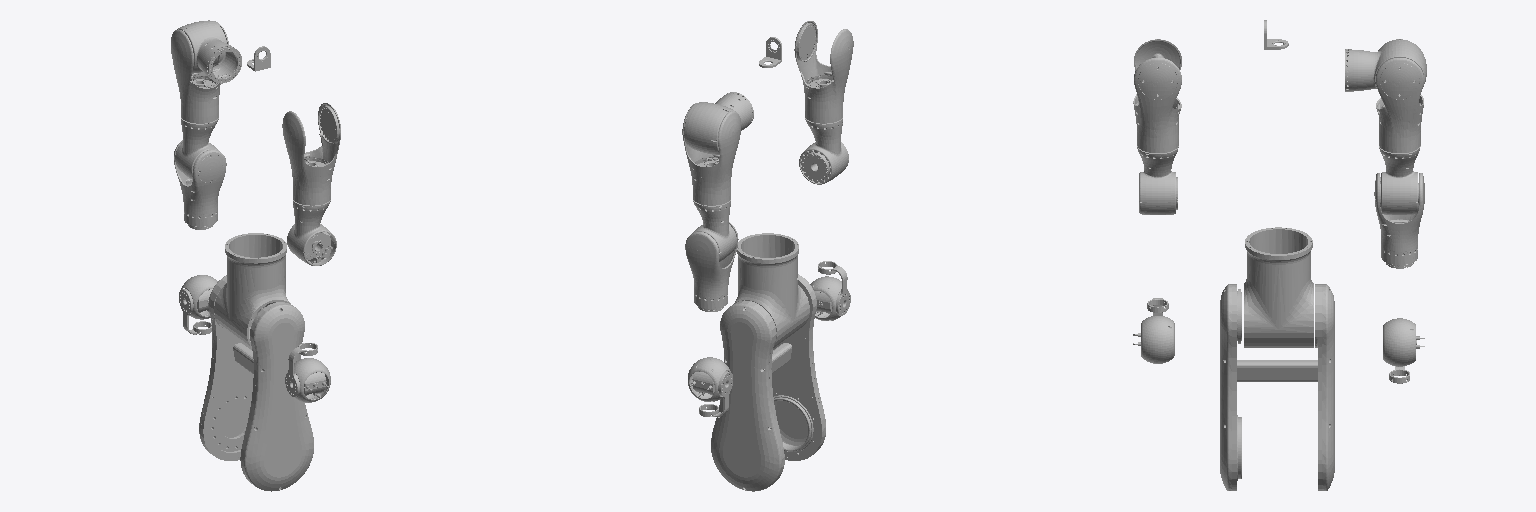
--- Facts derived from the render (not from the file) ---
The picture shows the robot from 3 angles, left to right: view 1: azimuth 30°, elevation 25°; view 2: azimuth 150°, elevation 25°; view 3: azimuth 270°, elevation 25°; orthographic projection.
Robot: CrpRobot — 21 links, 20 joints (20 revolute); root link AMR_link; default pose: every joint at zero.
Visible links, largest first — view 1: thigh_Link, waist_Link, right_uperarm_Link, left_uperarm_Link, left_forearm_Link, leftshd_Link, right_elbow_Link, left_elbow_Link, right_wrist_Link, left_wrist_Link, right_hand_Link, left_hand_Link; view 2: thigh_Link, waist_Link, right_uperarm_Link, left_uperarm_Link, left_forearm_Link, leftshd_Link, right_elbow_Link, left_elbow_Link, left_wrist_Link, right_wrist_Link, right_hand_Link, left_hand_Link; view 3: thigh_Link, waist_Link, right_uperarm_Link, left_uperarm_Link, left_forearm_Link, right_elbow_Link, left_elbow_Link, leftshd_Link, right_wrist_Link, left_wrist_Link.
Link boxes in pixels (x1,y1,x2,y2): thigh_Link: (199,275,313,491); waist_Link: (214,233,290,347); right_uperarm_Link: (282,103,340,205); left_uperarm_Link: (171,21,228,123); left_forearm_Link: (174,140,226,229); leftshd_Link: (177,20,241,83); right_elbow_Link: (287,200,336,265); left_elbow_Link: (175,118,218,179); right_wrist_Link: (288,358,330,402); left_wrist_Link: (181,275,217,319); right_hand_Link: (285,343,317,396); left_hand_Link: (179,289,211,334); thigh_Link: (711,274,825,491); waist_Link: (734,233,809,347); right_uperarm_Link: (794,21,853,123); left_uperarm_Link: (682,103,740,205); left_forearm_Link: (685,222,738,311); leftshd_Link: (684,92,753,154); right_elbow_Link: (799,118,848,184); left_elbow_Link: (693,200,736,261); left_wrist_Link: (688,357,730,401); right_wrist_Link: (810,276,848,320); right_hand_Link: (818,261,850,315); left_hand_Link: (699,371,732,416); thigh_Link: (1220,284,1334,490); waist_Link: (1244,227,1313,347); right_uperarm_Link: (1133,39,1181,152); left_uperarm_Link: (1376,39,1423,152); left_forearm_Link: (1374,173,1424,268); right_elbow_Link: (1137,146,1178,214); left_elbow_Link: (1379,146,1420,214); leftshd_Link: (1345,39,1426,91); right_wrist_Link: (1133,316,1174,363); left_wrist_Link: (1383,318,1424,366).
Bounding box of the posed robot: 0.1799 × 0.6073 × 1.06 m (x, y, z).
13 mesh visuals loaded from 21 distinct referenced files (13 binary STL); not drawn: 8 (reference not matched to a file when rendering).

URDF robot description (CrpRobot):
<?xml version="1.0" encoding="utf-8"?>
<!-- This URDF was automatically created by SolidWorks to URDF Exporter! Originally created by Stephen Brawner ([email redacted]) 
     Commit Version: 1.6.0-4-g7f85cfe  Build Version: 1.6.7995.38578
     For more information, please see http://wiki.ros.org/sw_urdf_exporter -->
<robot
  name="CrpRobot">
  <link
    name="AMR_link">
    <inertial>
      <origin
        xyz="1.7067250104595E-06 -0.000630534395126906 0.23498436460573"
        rpy="0 0 0" />
      <mass
        value="15.6838298790596" />
      <inertia
        ixx="0.29273067004881"
        ixy="-0.000892145751909648"
        ixz="1.19710141560885E-08"
        iyy="0.621397679549303"
        iyz="-4.30982823485956E-06"
        izz="0.899723888567382" />
    </inertial>
    <visual>
      <origin
        xyz="0 0 0"
        rpy="0 0 0" />
      <geometry>
        <mesh
          filename="package://CrpRobotDescription/meshes/AMR_link.STL" />
      </geometry>
      <material
        name="">
        <color
          rgba="0.752941176470588 0.752941176470588 0.752941176470588 1" />
      </material>
    </visual>
    <collision>
      <origin
        xyz="0 0 0"
        rpy="0 0 0" />
      <geometry>
        <mesh
          filename="package://CrpRobotDescription/meshes/AMR_link.STL" />
      </geometry>
    </collision>
  </link>
  <link
    name="calf_Link">
    <inertial>
      <origin
        xyz="-1.9907E-07 0.013119 0.13964"
        rpy="0 0 0" />
      <mass
        value="19.211" />
      <inertia
        ixx="0.11342"
        ixy="-3.3299E-08"
        ixz="-2.8761E-08"
        iyy="0.11044"
        iyz="0.0004617"
        izz="0.062754" />
    </inertial>
    <visual>
      <origin
        xyz="0 0 0"
        rpy="0 0 0" />
      <geometry>
        <mesh
          filename="package://CrpRobotDescription/meshes/calf_Link.STL" />
      </geometry>
      <material
        name="">
        <color
          rgba="0.75294 0.75294 0.75294 1" />
      </material>
    </visual>
    <collision>
      <origin
        xyz="0 0 0"
        rpy="0 0 0" />
      <geometry>
        <mesh
          filename="package://CrpRobotDescription/meshes/calf_Link.STL" />
      </geometry>
    </collision>
  </link>
  <joint
    name="JT_ankle_pitch"
    type="revolute">
    <origin
      xyz="0 0 0.344"
      rpy="0 0 0" />
    <parent
      link="AMR_link" />
    <child
      link="calf_Link" />
    <axis
      xyz="0 -1 0" />
    <limit
      lower="-1.57"
      upper="1.57"
      effort="0"
      velocity="0" />
  </joint>
  <link
    name="thigh_Link">
    <inertial>
      <origin
        xyz="-1.2883E-07 -0.0050028 0.12937"
        rpy="0 0 0" />
      <mass
        value="3.6191" />
      <inertia
        ixx="0.041564"
        ixy="-4.7332E-10"
        ixz="-1.3554E-07"
        iyy="0.047009"
        iyz="0.00041827"
        izz="0.0074734" />
    </inertial>
    <visual>
      <origin
        xyz="0 0 0"
        rpy="0 0 0" />
      <geometry>
        <mesh
          filename="package://CrpRobotDescription/meshes/thigh_Link.STL" />
      </geometry>
      <material
        name="">
        <color
          rgba="0.75294 0.75294 0.75294 1" />
      </material>
    </visual>
    <collision>
      <origin
        xyz="0 0 0"
        rpy="0 0 0" />
      <geometry>
        <mesh
          filename="package://CrpRobotDescription/meshes/thigh_Link.STL" />
      </geometry>
    </collision>
  </link>
  <joint
    name="JT_knee_pitch"
    type="revolute">
    <origin
      xyz="0 0 0.28"
      rpy="0 0 0" />
    <parent
      link="calf_Link" />
    <child
      link="thigh_Link" />
    <axis
      xyz="0 -1 0" />
    <!-- <limit
      lower="-2.093"
      upper="2.093"
      effort="0"
      velocity="0" /> -->
    <limit
      lower="-1.571"
      upper="1.571"
      effort="0"
      velocity="0" />
  </joint>
  <link
    name="waist_Link">
    <inertial>
      <origin
        xyz="3.08982177258082E-08 0.00746163747499071 0.0708223424260894"
        rpy="0 0 0" />
      <mass
        value="11.0697374901141" />
      <inertia
        ixx="0.0269084125958022"
        ixy="1.3917210472165E-07"
        ixz="1.35564028293498E-08"
        iyy="0.0248391541928932"
        iyz="0.000208916767385605"
        izz="0.0207393365737641" />
    </inertial>
    <visual>
      <origin
        xyz="0 0 0"
        rpy="0 0 0" />
      <geometry>
        <mesh
          filename="package://CrpRobotDescription/meshes/waist_Link.STL" />
      </geometry>
      <material
        name="">
        <color
          rgba="0.752941176470588 0.752941176470588 0.752941176470588 1" />
      </material>
    </visual>
    <collision>
      <origin
        xyz="0 0 0"
        rpy="0 0 0" />
      <geometry>
        <mesh
          filename="package://CrpRobotDescription/meshes/waist_Link.STL" />
      </geometry>
    </collision>
  </link>
  <joint
    name="JT_waist_pitch"
    type="revolute">
    <origin
      xyz="0 0 0.3"
      rpy="0 0 0" />
    <parent
      link="thigh_Link" />
    <child
      link="waist_Link" />
    <axis
      xyz="0 -1 0" />
    <!-- <limit
      lower="-2.093"
      upper="2.093"
      effort="0"
      velocity="0" /> -->
      <limit
      lower="-1.571"
      upper="1.571"
      effort="0"
      velocity="0" />
  </joint>
  <link
    name="body_Link">
    <inertial>
      <origin
        xyz="-0.0157302561834629 -0.000921159048584068 0.26491560483905"
        rpy="0 0 0" />
      <mass
        value="11.5278159662407" />
      <inertia
        ixx="0.0917732697191284"
        ixy="5.55557523543435E-06"
        ixz="-0.00184407199578961"
        iyy="0.0777548884223376"
        iyz="7.9609997315152E-05"
        izz="0.0530884459020407" />
    </inertial>
    <visual>
      <origin
        xyz="0 0 0"
        rpy="0 0 0" />
      <geometry>
        <mesh
          filename="package://CrpRobotDescription/meshes/body_Link.STL" />
      </geometry>
      <material
        name="">
        <color
          rgba="0.752941176470588 0.752941176470588 0.752941176470588 1" />
      </material>
    </visual>
    <collision>
      <origin
        xyz="0 0 0"
        rpy="0 0 0" />
      <geometry>
        <mesh
          filename="package://CrpRobotDescription/meshes/body_Link.STL" />
      </geometry>
    </collision>
  </link>
  <joint
    name="JT_waist_yaw"
    type="revolute">
    <origin
      xyz="0 0 0.16"
      rpy="0 0 0" />
    <parent
      link="waist_Link" />
    <child
      link="body_Link" />
    <axis
      xyz="0 0 -1" />
    <limit
      lower="-3.1416"
      upper="3.1416"
      effort="0"
      velocity="0" />
  </joint>
  <link
    name="neck_Link">
    <inertial>
      <origin
        xyz="9.45679100606626E-16 -0.0137500941466434 0.00912839009985378"
        rpy="0 0 0" />
      <mass
        value="0.0237571247428503" />
      <inertia
        ixx="4.88516309171337E-06"
        ixy="8.43724224804088E-23"
        ixz="-1.15917067365382E-21"
        iyy="5.16930498087681E-06"
        iyz="-2.12533733733979E-08"
        izz="6.83012107406235E-06" />
    </inertial>
    <visual>
      <origin
        xyz="0 0 0"
        rpy="0 0 0" />
      <geometry>
        <mesh
          filename="package://CrpRobotDescription/meshes/neck_Link.STL" />
      </geometry>
      <material
        name="">
        <color
          rgba="0.752941176470588 0.752941176470588 0.752941176470588 1" />
      </material>
    </visual>
    <collision>
      <origin
        xyz="0 0 0"
        rpy="0 0 0" />
      <geometry>
        <mesh
          filename="package://CrpRobotDescription/meshes/neck_Link.STL" />
      </geometry>
    </collision>
  </link>
  <joint
    name="JT_head_yaw"
    type="revolute">
    <origin
      xyz="0 0 0.457"
      rpy="0 0 0" />
    <parent
      link="body_Link" />
    <child
      link="neck_Link" />
    <axis
      xyz="0 0 1" />
    <limit
      lower="-3.14"
      upper="3.14"
      effort="0"
      velocity="0" />
  </joint>
  <link
    name="head_Link">
    <inertial>
      <origin
        xyz="0.0155377524095807 0.0247052496791913 0.126485391722255"
        rpy="0 0 0" />
      <mass
        value="1.21249497507802" />
      <inertia
        ixx="0.00468790853060461"
        ixy="-4.51995700321224E-07"
        ixz="2.99050148402908E-05"
        iyy="0.00401641938151872"
        iyz="-3.59037238584987E-06"
        izz="0.00477006543276291" />
    </inertial>
    <visual>
      <origin
        xyz="0 0 0"
        rpy="0 0 0" />
      <geometry>
        <mesh
          filename="package://CrpRobotDescription/meshes/head_Link.STL" />
      </geometry>
      <material
        name="">
        <color
          rgba="0.752941176470588 0.752941176470588 0.752941176470588 1" />
      </material>
    </visual>
    <collision>
      <origin
        xyz="0 0 0"
        rpy="0 0 0" />
      <geometry>
        <mesh
          filename="package://CrpRobotDescription/meshes/head_Link.STL" />
      </geometry>
    </collision>
  </link>
  <joint
    name="JT_head_pitch"
    type="revolute">
    <origin
      xyz="0 -0.025 0.035"
      rpy="0 0 0" />
    <parent
      link="neck_Link" />
    <child
      link="head_Link" />
    <axis
      xyz="0 -1 0" />
    <limit
      lower="-0.734"
      upper="1.467"
      effort="0"
      velocity="0" />
  </joint>
  <link
    name="leftshd_Link">
    <inertial>
      <origin
        xyz="0.00560451544572575 0.0752684073133717 -3.17283219364306E-06"
        rpy="0 0 0" />
      <mass
        value="1.51462230972284" />
      <inertia
        ixx="0.00138091319626636"
        ixy="-2.90093852134569E-06"
        ixz="3.40418749991194E-09"
        iyy="0.00124128503134948"
        iyz="2.66878486378639E-08"
        izz="0.00135309461283093" />
    </inertial>
    <visual>
      <origin
        xyz="0 0 0"
        rpy="0 0 0" />
      <geometry>
        <mesh
          filename="package://CrpRobotDescription/meshes/leftshd_Link.STL" />
      </geometry>
      <material
        name="">
        <color
          rgba="0.752941176470588 0.752941176470588 0.752941176470588 1" />
      </material>
    </visual>
    <collision>
      <origin
        xyz="0 0 0"
        rpy="0 0 0" />
      <geometry>
        <mesh
          filename="package://CrpRobotDescription/meshes/leftshd_Link.STL" />
      </geometry>
    </collision>
  </link>
  <joint
    name="JT_leftshd_pitch"
    type="revolute">
    <origin
      xyz="0 0.165 0.4"
      rpy="0 0 0" />
    <parent
      link="body_Link" />
    <child
      link="leftshd_Link" />
    <axis
      xyz="0 -1 0" />
    <limit
      lower="-3.14"
      upper="3.14"
      effort="0"
      velocity="0" />
  </joint>
  <link
    name="left_uperarm_Link">
    <inertial>
      <origin
        xyz="0.0013528 0.00040387 -0.10882"
        rpy="0 0 0" />
      <mass
        value="1.3479" />
      <inertia
        ixx="0.0021852"
        ixy="5.3642E-07"
        ixz="1.231E-07"
        iyy="0.0019874"
        iyz="9.0639E-06"
        izz="0.00081159" />
    </inertial>
    <visual>
      <origin
        xyz="0 0 0"
        rpy="0 0 0" />
      <geometry>
        <mesh
          filename="package://CrpRobotDescription/meshes/left_uperarm_Link.STL" />
      </geometry>
      <material
        name="">
        <color
          rgba="0.75294 0.75294 0.75294 1" />
      </material>
    </visual>
    <collision>
      <origin
        xyz="0 0 0"
        rpy="0 0 0" />
      <geometry>
        <mesh
          filename="package://CrpRobotDescription/meshes/left_uperarm_Link.STL" />
      </geometry>
    </collision>
  </link>
  <joint
    name="JT_leftshd_roll"
    type="revolute">
    <origin
      xyz="-0.00022992 0.084701 0"
      rpy="0 0 0" />
    <parent
      link="leftshd_Link" />
    <child
      link="left_uperarm_Link" />
    <axis
      xyz="1 0 0" />
    <!-- <limit
      lower="0"
      upper="3.14"
      effort="0"
      velocity="0" /> -->
    <limit
      lower="-0.45"
      upper="2.618"
      effort="0"
      velocity="0" />
  </joint>
  <link
    name="left_elbow_Link">
    <inertial>
      <origin
        xyz="-0.000469035624493089 -0.00773012087866784 0.0103684255989351"
        rpy="0 0 0" />
      <mass
        value="1.24768830275529" />
      <inertia
        ixx="0.00121532572681743"
        ixy="6.54388475224281E-09"
        ixz="1.99981226434696E-05"
        iyy="0.00133413492028562"
        iyz="4.76396943963314E-10"
        izz="0.000775182411508688" />
    </inertial>
    <visual>
      <origin
        xyz="0 0 0"
        rpy="0 0 0" />
      <geometry>
        <mesh
          filename="package://CrpRobotDescription/meshes/left_elbow_Link.STL" />
      </geometry>
      <material
        name="">
        <color
          rgba="0.752941176470588 0.752941176470588 0.752941176470588 1" />
      </material>
    </visual>
    <collision>
      <origin
        xyz="0 0 0"
        rpy="0 0 0" />
      <geometry>
        <mesh
          filename="package://CrpRobotDescription/meshes/left_elbow_Link.STL" />
      </geometry>
    </collision>
  </link>
  <joint
    name="JT_leftshd_yaw"
    type="revolute">
    <origin
      xyz="0 0 -0.28"
      rpy="0 0 0" />
    <parent
      link="left_uperarm_Link" />
    <child
      link="left_elbow_Link" />
    <axis
      xyz="0 0 1" />
    <limit
      lower="-3.14"
      upper="3.14"
      effort="0"
      velocity="0" />
  </joint>
  <link
    name="left_forearm_Link">
    <inertial>
      <origin
        xyz="0.00170875791311913 2.09454223620564E-05 -0.115440636276309"
        rpy="0 0 0" />
      <mass
        value="0.838030981878656" />
      <inertia
        ixx="0.000681410407682389"
        ixy="1.76068509156145E-07"
        ixz="4.93380589793723E-06"
        iyy="0.000746089581983907"
        iyz="-1.15469925730019E-05"
        izz="0.000350947107881828" />
    </inertial>
    <visual>
      <origin
        xyz="0 0 0"
        rpy="0 0 0" />
      <geometry>
        <mesh
          filename="package://CrpRobotDescription/meshes/left_forearm_Link.STL" />
      </geometry>
      <material
        name="">
        <color
          rgba="0.752941176470588 0.752941176470588 0.752941176470588 1" />
      </material>
    </visual>
    <collision>
      <origin
        xyz="0 0 0"
        rpy="0 0 0" />
      <geometry>
        <mesh
          filename="package://CrpRobotDescription/meshes/left_forearm_Link.STL" />
      </geometry>
    </collision>
  </link>
  <joint
    name="JT_leftelbow_pitch"
    type="revolute">
    <origin
      xyz="0 0 0"
      rpy="0 0 0" />
    <parent
      link="left_elbow_Link" />
    <child
      link="left_forearm_Link" />
    <axis
      xyz="0 -1 0" />
    <!-- <limit
      lower="-2.617"
      upper="0"
      effort="0"
      velocity="0" /> -->
    <limit
      lower="-1.55"
      upper="2.0"
      effort="0"
      velocity="0" />
  </joint>
  <link
    name="left_fa_Link">
    <inertial>
      <origin
        xyz="0.00138547739780884 0.00787804338462211 -0.0937607749202922"
        rpy="0 0 0" />
      <mass
        value="1.0436993253593" />
      <inertia
        ixx="0.00211878328999715"
        ixy="-1.3857899093755E-06"
        ixz="2.08078554284944E-05"
        iyy="0.00230055998833744"
        iyz="0.000106700060266832"
        izz="0.000714813913081732" />
    </inertial>
    <visual>
      <origin
        xyz="0 0 0"
        rpy="0 0 0" />
      <geometry>
        <mesh
          filename="package://CrpRobotDescription/meshes/left_fa_Link.STL" />
      </geometry>
      <material
        name="">
        <color
          rgba="0.752941176470588 0.752941176470588 0.752941176470588 1" />
      </material>
    </visual>
    <collision>
      <origin
        xyz="0 0 0"
        rpy="0 0 0" />
      <geometry>
        <mesh
          filename="package://CrpRobotDescription/meshes/left_fa_Link.STL" />
      </geometry>
    </collision>
  </link>
  <joint
    name="JT_leftwrist_yaw"
    type="revolute">
    <origin
      xyz="0.0021831 0 -0.14753"
      rpy="0 0 0" />
    <parent
      link="left_forearm_Link" />
    <child
      link="left_fa_Link" />
    <axis
      xyz="0 0 1" />
    <limit
      lower="-3.14"
      upper="3.14"
      effort="0"
      velocity="0" />
  </joint>
  <link
    name="left_wrist_Link">
    <inertial>
      <origin
        xyz="-0.0047099 3.3576E-05 -6.6161E-05"
        rpy="0 0 0" />
      <mass
        value="0.51727" />
      <inertia
        ixx="0.00018655"
        ixy="5.8975E-09"
        ixz="-8.9123E-07"
        iyy="0.00030014"
        iyz="-2.3651E-08"
        izz="0.00024769" />
    </inertial>
    <visual>
      <origin
        xyz="0 0 0"
        rpy="0 0 0" />
      <geometry>
        <mesh
          filename="package://CrpRobotDescription/meshes/left_wrist_Link.STL" />
      </geometry>
      <material
        name="">
        <color
          rgba="0.75294 0.75294 0.75294 1" />
      </material>
    </visual>
    <collision>
      <origin
        xyz="0 0 0"
        rpy="0 0 0" />
      <geometry>
        <mesh
          filename="package://CrpRobotDescription/meshes/left_wrist_Link.STL" />
      </geometry>
    </collision>
  </link>
  <joint
    name="JT_leftwrist_pitch"
    type="revolute">
    <origin
      xyz="0.0028123 0 -0.19003"
      rpy="0 0 0" />
    <parent
      link="left_fa_Link" />
    <child
      link="left_wrist_Link" />
    <axis
      xyz="0 -1 0" />
    <!-- <limit
      lower="-2.093"
      upper="2.093"
      effort="0"
      velocity="0" /> -->
    <limit
      lower="-0.958"
      upper="0.86"
      effort="0"
      velocity="0" />
  </joint>
  <link
    name="left_hand_Link">
    <inertial>
      <origin
        xyz="-0.032674974093459 -5.4787381714716E-08 -0.0238995615166012"
        rpy="0 0 0" />
      <mass
        value="0.0289894815501375" />
      <inertia
        ixx="4.10229647236947E-05"
        ixy="1.72908378444887E-11"
        ixz="1.16357488865126E-05"
        iyy="4.41535469408514E-05"
        iyz="-8.9542249162528E-11"
        izz="1.36432758426506E-05" />
    </inertial>
    <visual>
      <origin
        xyz="0 0 0"
        rpy="0 0 0" />
      <geometry>
        <mesh
          filename="package://CrpRobotDescription/meshes/left_hand_Link.STL" />
      </geometry>
      <material
        name="">
        <color
          rgba="0.752941176470588 0.752941176470588 0.752941176470588 1" />
      </material>
    </visual>
    <collision>
      <origin
        xyz="0 0 0"
        rpy="0 0 0" />
      <geometry>
        <mesh
          filename="package://CrpRobotDescription/meshes/left_hand_Link.STL" />
      </geometry>
    </collision>
  </link>
  <joint
    name="JT_leftwrist_roll"
    type="revolute">
    <origin
      xyz="0 0 0"
      rpy="0 0 0" />
    <parent
      link="left_wrist_Link" />
    <child
      link="left_hand_Link" />
    <axis
      xyz="1 0 0" />
    <limit
      lower="-1.71"
      upper="0.826"
      effort="0"
      velocity="0" />
  </joint>
  <link
    name="right_shd_Link">
    <inertial>
      <origin
        xyz="0.00478865500239273 -0.0754731321882146 -2.95614601908412E-07"
        rpy="0 0 0" />
      <mass
        value="1.55314721523229" />
      <inertia
        ixx="0.00139388373434682"
        ixy="3.67583072312186E-06"
        ixz="-3.54902419152739E-09"
        iyy="0.00124804914876028"
        iyz="2.66689741566151E-08"
        izz="0.00135982307105485" />
    </inertial>
    <visual>
      <origin
        xyz="0 0 0"
        rpy="0 0 0" />
      <geometry>
        <mesh
          filename="package://CrpRobotDescription/meshes/right_shd_Link.STL" />
      </geometry>
      <material
        name="">
        <color
          rgba="0.752941176470588 0.752941176470588 0.752941176470588 1" />
      </material>
    </visual>
    <collision>
      <origin
        xyz="0 0 0"
        rpy="0 0 0" />
      <geometry>
        <mesh
          filename="package://CrpRobotDescription/meshes/right_shd_Link.STL" />
      </geometry>
    </collision>
  </link>
  <joint
    name="JT_rightshd_pitch"
    type="revolute">
    <origin
      xyz="0 -0.165 0.4"
      rpy="0 0 -0.0027145" />
    <parent
      link="body_Link" />
    <child
      link="right_shd_Link" />
    <axis
      xyz="0 -1 0" />
    <limit
      lower="-3.14"
      upper="3.14"
      effort="0"
      velocity="0" />
  </joint>
  <link
    name="right_uperarm_Link">
    <inertial>
      <origin
        xyz="0.00190172861064099 -0.00022583111147792 -0.115057199743876"
        rpy="0 0 0" />
      <mass
        value="1.17436367399526" />
      <inertia
        ixx="0.0013663655269449"
        ixy="6.89359475681241E-07"
        ixz="8.38370706872628E-06"
        iyy="0.00126174606915089"
        iyz="-4.55504240546967E-06"
        izz="0.000645244827582288" />
    </inertial>
    <visual>
      <origin
        xyz="0 0 0"
        rpy="0 0 0" />
      <geometry>
        <mesh
          filename="package://CrpRobotDescription/meshes/right_uperarm_Link.STL" />
      </geometry>
      <material
        name="">
        <color
          rgba="0.752941176470588 0.752941176470588 0.752941176470588 1" />
      </material>
    </visual>
    <collision>
      <origin
        xyz="0 0 0"
        rpy="0 0 0" />
      <geometry>
        <mesh
          filename="package://CrpRobotDescription/meshes/right_uperarm_Link.STL" />
      </geometry>
    </collision>
  </link>
  <joint
    name="JT_rightshd_roll"
    type="revolute">
    <origin
      xyz="0.00012987 -0.0847 0"
      rpy="0 0 0" />
    <parent
      link="right_shd_Link" />
    <child
      link="right_uperarm_Link" />
    <axis
      xyz="-1 0 0" />
    <!-- <limit
      lower="-3.14"
      upper="0"
      effort="0"
      velocity="0" /> -->
    <limit
      lower="-0.45"
      upper="2.618"
      effort="0"
      velocity="0" />
  </joint>
  <link
    name="right_elbow_Link">
    <inertial>
      <origin
        xyz="-0.000285729313235844 0.00894022880819764 -0.10180100361848"
        rpy="0 0 0" />
      <mass
        value="1.11829326865163" />
      <inertia
        ixx="0.000874438833675437"
        ixy="-2.77292153554777E-07"
        ixz="9.99153934880461E-06"
        iyy="0.000905932745478592"
        iyz="3.86401325180305E-06"
        izz="0.000657724816801661" />
    </inertial>
    <visual>
      <origin
        xyz="0 0 0"
        rpy="0 0 0" />
      <geometry>
        <mesh
          filename="package://CrpRobotDescription/meshes/right_elbow_Link.STL" />
      </geometry>
      <material
        name="">
        <color
          rgba="0.752941176470588 0.752941176470588 0.752941176470588 1" />
      </material>
    </visual>
    <collision>
      <origin
        xyz="0 0 0"
        rpy="0 0 0" />
      <geometry>
        <mesh
          filename="package://CrpRobotDescription/meshes/right_elbow_Link.STL" />
      </geometry>
    </collision>
  </link>
  <joint
    name="JT_rightshd_yaw"
    type="revolute">
    <origin
      xyz="0 0 -0.1712"
      rpy="0 0 0" />
    <parent
      link="right_uperarm_Link" />
    <child
      link="right_elbow_Link" />
    <axis
      xyz="0 0 -1" />
    <limit
      lower="-3.14"
      upper="3.14"
      effort="0"
      velocity="0" />
  </joint>
  <link
    name="right_forearm_Link">
    <inertial>
      <origin
        xyz="-0.00127306719185454 -0.00207281511531857 -0.0495628095330389"
        rpy="0 0 0" />
      <mass
        value="0.145846561161935" />
      <inertia
        ixx="0.000353781269427774"
        ixy="1.19605556274988E-07"
        ixz="-6.22195474924909E-06"
        iyy="0.000419210895002405"
        iyz="1.15109860447654E-05"
        izz="0.000115249397341405" />
    </inertial>
    <visual>
      <origin
        xyz="0 0 0"
        rpy="0 0 0" />
      <geometry>
        <mesh
          filename="package://CrpRobotDescription/meshes/right_forearm_Link.STL" />
      </geometry>
      <material
        name="">
        <color
          rgba="0.752941176470588 0.752941176470588 0.752941176470588 1" />
      </material>
    </visual>
    <collision>
      <origin
        xyz="0 0 0"
        rpy="0 0 0" />
      <geometry>
        <mesh
          filename="package://CrpRobotDescription/meshes/right_forearm_Link.STL" />
      </geometry>
    </collision>
  </link>
  <joint
    name="JT_rightelbow_pitch"
    type="revolute">
    <origin
      xyz="0 0 -0.1088"
      rpy="0 0 0" />
    <parent
      link="right_elbow_Link" />
    <child
      link="right_forearm_Link" />
    <axis
      xyz="0 -1 0" />
    <!-- <limit
      lower="-1.5"
      upper="1.75"
      effort="0"
      velocity="0" /> -->
    <limit
      lower="-1.55"
      upper="2.0"
      effort="0"
      velocity="0" />
  </joint>
  <link
    name="right_armend_Link">
    <inertial>
      <origin
        xyz="-0.00247797311658699 -0.00930860320061133 -0.0964216036983219"
        rpy="0 0 0" />
      <mass
        value="0.607042041683229" />
      <inertia
        ixx="0.00194076323193106"
        ixy="-3.29910078269916E-06"
        ixz="-3.61680757300729E-05"
        iyy="0.00220775081990313"
        iyz="-0.000106776986063021"
        izz="0.000538055572851429" />
    </inertial>
    <visual>
      <origin
        xyz="0 0 0"
        rpy="0 0 0" />
      <geometry>
        <mesh
          filename="package://CrpRobotDescription/meshes/right_armend_Link.STL" />
      </geometry>
      <material
        name="">
        <color
          rgba="0.752941176470588 0.752941176470588 0.752941176470588 1" />
      </material>
    </visual>
    <collision>
      <origin
        xyz="0 0 0"
        rpy="0 0 0" />
      <geometry>
        <mesh
          filename="package://CrpRobotDescription/meshes/right_armend_Link.STL" />
      </geometry>
    </collision>
  </link>
  <joint
    name="JT_rightwrist_yaw"
    type="revolute">
    <origin
      xyz="-0.0038267 -1.0052E-05 -0.14748"
      rpy="0 0 0" />
    <parent
      link="right_forearm_Link" />
    <child
      link="right_armend_Link" />
    <axis
      xyz="0 0 -1" />
    <limit
      lower="-3.14"
      upper="3.14"
      effort="0"
      velocity="0" />
  </joint>
  <link
    name="right_wrist_Link">
    <inertial>
      <origin
        xyz="0.00444258219255302 -0.000815156595584482 -9.73719601342626E-05"
        rpy="0 0 0" />
      <mass
        value="0.0805979654849317" />
      <inertia
        ixx="9.37268278354076E-05"
        ixy="2.08310512761858E-07"
        ixz="-6.35316704544093E-07"
        iyy="0.000122740004465003"
        iyz="-2.95118712045291E-08"
        izz="7.03259567600118E-05" />
    </inertial>
    <visual>
      <origin
        xyz="0 0 0"
        rpy="0 0 0" />
      <geometry>
        <mesh
          filename="package://CrpRobotDescription/meshes/right_wrist_Link.STL" />
      </geometry>
      <material
        name="">
        <color
          rgba="0.752941176470588 0.752941176470588 0.752941176470588 1" />
      </material>
    </visual>
    <collision>
      <origin
        xyz="0 0 0"
        rpy="0 0 0" />
      <geometry>
        <mesh
          filename="package://CrpRobotDescription/meshes/right_wrist_Link.STL" />
      </geometry>
    </collision>
  </link>
  <joint
    name="JT_rightwrist_pitch"
    type="revolute">
    <origin
      xyz="-0.0049299 -1.3273E-05 -0.19001"
      rpy="0 0 0" />
    <parent
      link="right_armend_Link" />
    <child
      link="right_wrist_Link" />
    <axis
      xyz="0 -1 0" />
    <!-- <limit
      lower="-2.093"
      upper="2.093"
      effort="0"
      velocity="0" /> -->
    <limit
      lower="-0.958"
      upper="0.86"
      effort="0"
      velocity="0" />
  </joint>
  <link
    name="right_hand_Link">
    <inertial>
      <origin
        xyz="-0.0336605901814651 -2.57465835318271E-08 -0.0224901672688335"
        rpy="0 0 0" />
      <mass
        value="0.0289894821031318" />
      <inertia
        ixx="4.19611062166627E-05"
        ixy="1.55624925361062E-12"
        ixz="1.04319003687455E-05"
        iyy="4.41535476074445E-05"
        iyz="-5.48180651052036E-11"
        izz="1.27051350295092E-05" />
    </inertial>
    <visual>
      <origin
        xyz="0 0 0"
        rpy="0 0 0" />
      <geometry>
        <mesh
          filename="package://CrpRobotDescription/meshes/right_hand_Link.STL" />
      </geometry>
      <material
        name="">
        <color
          rgba="0.752941176470588 0.752941176470588 0.752941176470588 1" />
      </material>
    </visual>
    <collision>
      <origin
        xyz="0 0 0"
        rpy="0 0 0" />
      <geometry>
        <mesh
          filename="package://CrpRobotDescription/meshes/right_hand_Link.STL" />
      </geometry>
    </collision>
  </link>
  <joint
    name="JT_rightwrist_roll"
    type="revolute">
    <origin
      xyz="0 0 0"
      rpy="3.1415926 0 0" />
    <parent
      link="right_wrist_Link" />
    <child
      link="right_hand_Link" />
    <axis
      xyz="-1 0 0" />
    <limit
      lower="-1.71"
      upper="0.826"
      effort="0"
      velocity="0" />
  </joint>
  <!-- Origin version corespond to NoHand Model -->
  <!-- <joint
    name="JT_rightwrist_roll"
    type="revolute">
    <origin
      xyz="0 0 0"
      rpy="0 0 0" />
    <parent
      link="right_wrist_Link" />
    <child
      link="right_hand_Link" />
    <axis
      xyz="1 0 0" />
    <limit
      lower="-1.0467"
      upper="1.0467"
      effort="0"
      velocity="0" />
  </joint> -->
</robot>
